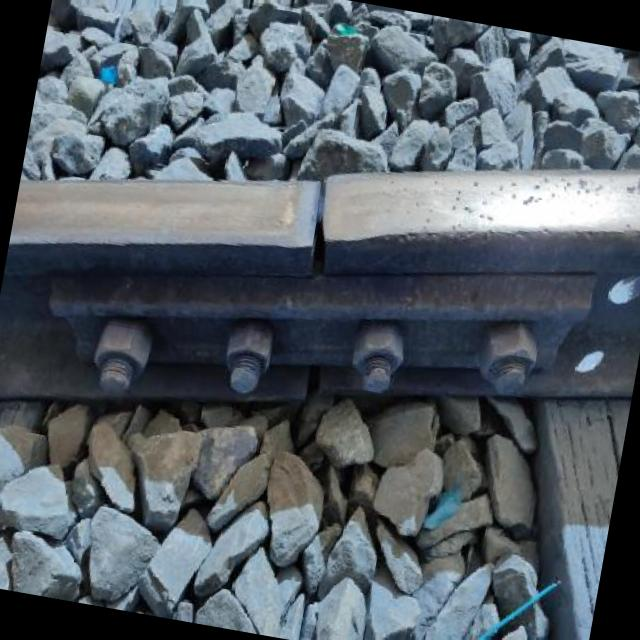defective: (0, 21, 640, 577)
